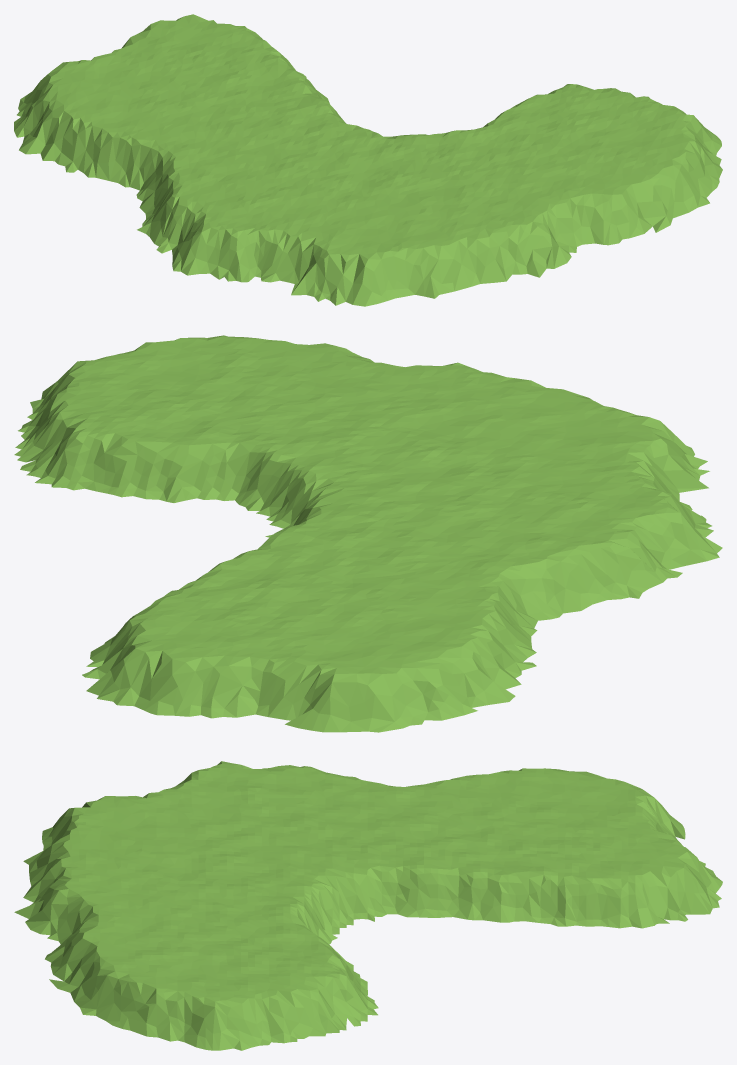
File: MT_Island_H_a_05_LOD.fbx
3 renders of one model, top to bottom at view 1: azimuth 30°, elevation 25°; view 2: azimuth 150°, elevation 25°; view 3: azimuth 270°, elevation 25°, orthographic. The views are drawn at different scales.
Parts seen in each view (by area): view 1: MT_Island_H_a_05_LOD0; view 2: MT_Island_H_a_05_LOD0; view 3: MT_Island_H_a_05_LOD0.
Boxes of the visible parts, x1,y1,x2,y2 form: MT_Island_H_a_05_LOD0: (14,14,722,306); MT_Island_H_a_05_LOD0: (14,335,722,732); MT_Island_H_a_05_LOD0: (14,761,722,1050).
Size of what is drawn, in the model's own units: 36345 by 2192 by 39618.
